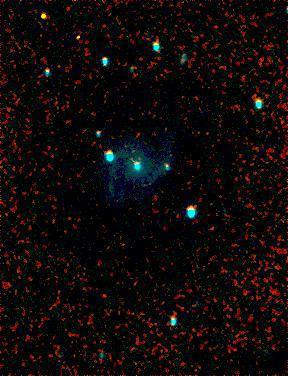star: (28, 1, 58, 31)
